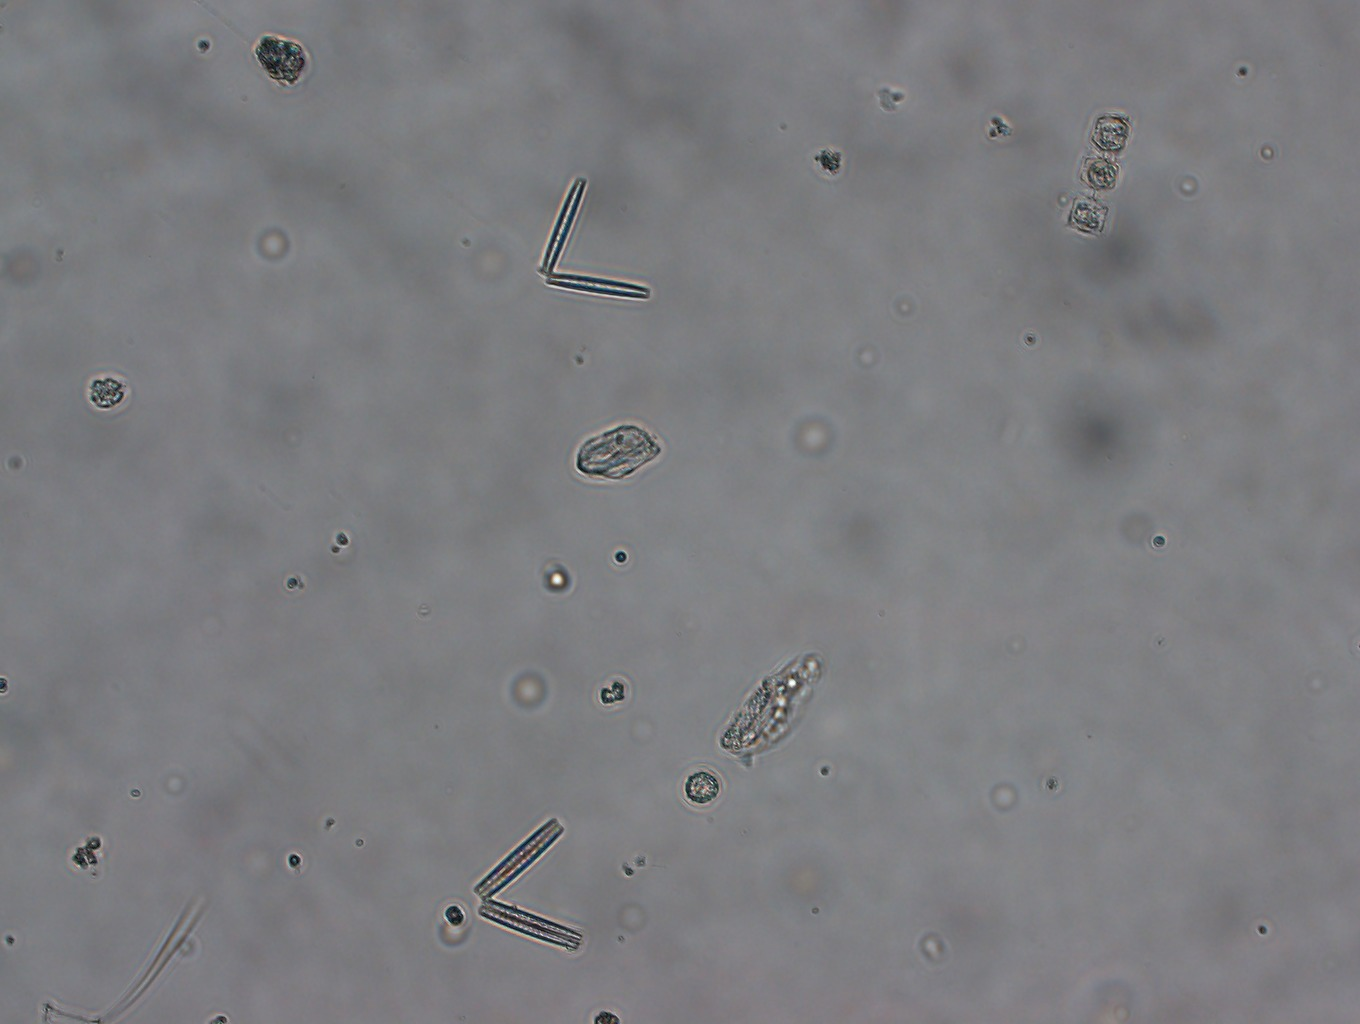skeletonema: (1059, 96, 1137, 242)
thalassionema nitzschioides: (467, 802, 585, 964), (531, 166, 655, 312)
